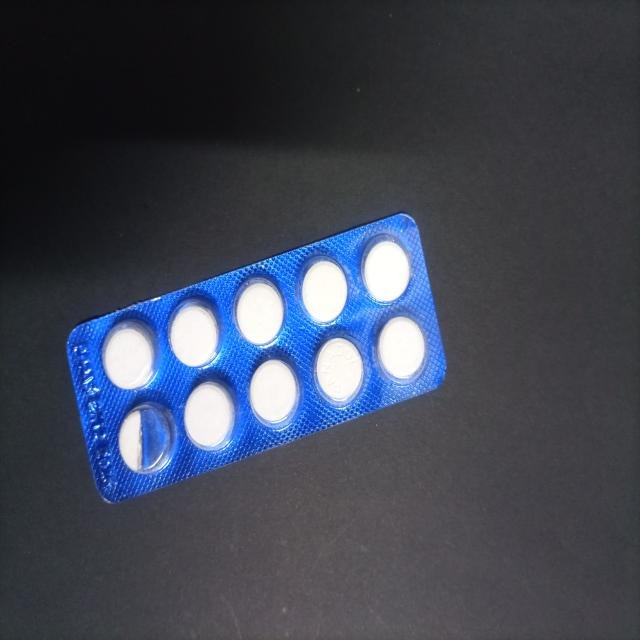defect: (115, 398, 180, 477)
